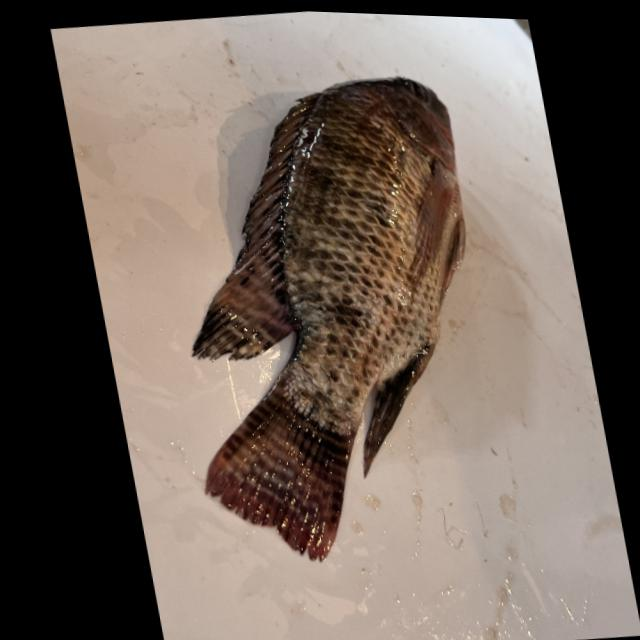Tilapia: (118, 60, 528, 581)
